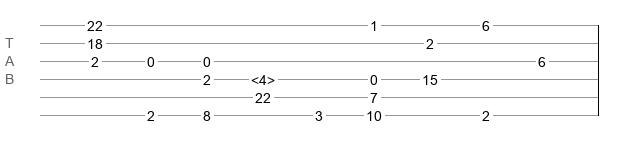0: (147, 54, 155, 64), (203, 54, 211, 64), (370, 72, 378, 82)
1: (370, 18, 378, 28)
10: (366, 108, 382, 118)
15: (422, 72, 438, 82)
18: (87, 36, 103, 46)
2: (91, 54, 99, 64), (147, 108, 155, 118), (203, 72, 211, 82), (426, 36, 434, 46), (482, 108, 490, 118)
22: (87, 18, 103, 28), (255, 90, 271, 100)
3: (315, 108, 323, 118)
6: (482, 18, 490, 28), (538, 54, 546, 64)
7: (370, 90, 378, 100)
8: (203, 108, 211, 118)
harmonic: (251, 72, 275, 82)
